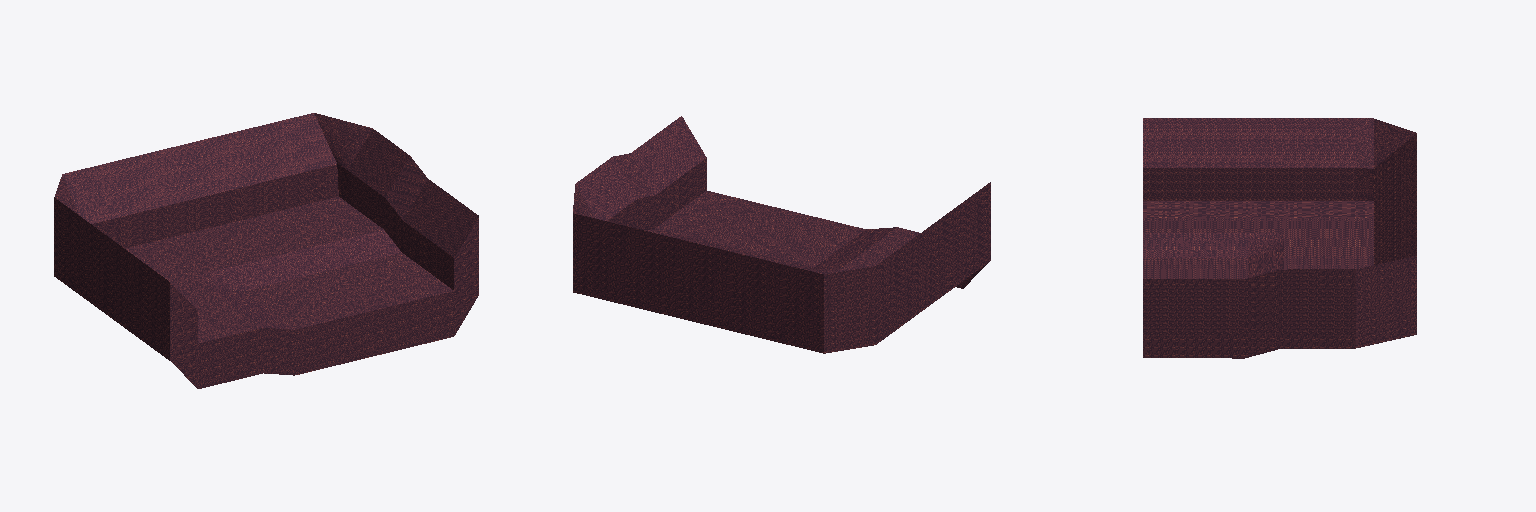
3 renders of one model, left to right at view 1: azimuth 30°, elevation 25°; view 2: azimuth 150°, elevation 25°; view 3: azimuth 270°, elevation 25°, orthographic.
Parts seen in each view (by area): view 1: Plane; view 2: Plane; view 3: Plane.
Boxes of the visible parts, box(x1,y1,x2,y2) form: Plane: box(54, 113, 478, 388); Plane: box(573, 116, 990, 353); Plane: box(1143, 118, 1416, 358).
Size of the model in its own units: 9.9 by 3.8 by 7.6.
Materials: 1 (1 with a texture image).